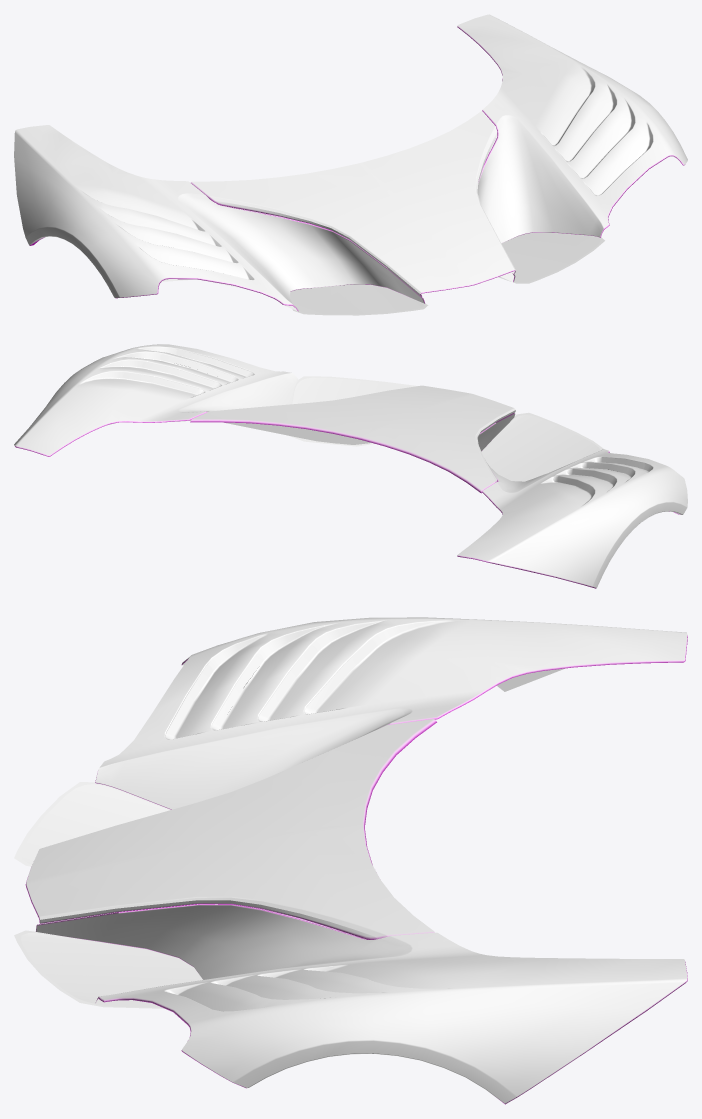
Rendered from Car_Ford_GT_2017_Hood_SetB.fbx.
3 renders of one model, top to bottom at view 1: azimuth 30°, elevation 25°; view 2: azimuth 150°, elevation 25°; view 3: azimuth 270°, elevation 25°, orthographic. The views are drawn at different scales.
Parts seen in each view (by area): view 1: Hood 6; view 2: Hood 6; view 3: Hood 6.
Part boxes in pixels (x1,y1,x2,y2): Hood 6: (14,14,687,315); Hood 6: (14,344,687,588); Hood 6: (14,617,687,1104).
Size of the model in its own units: 1.96 by 0.2586 by 1.33.
